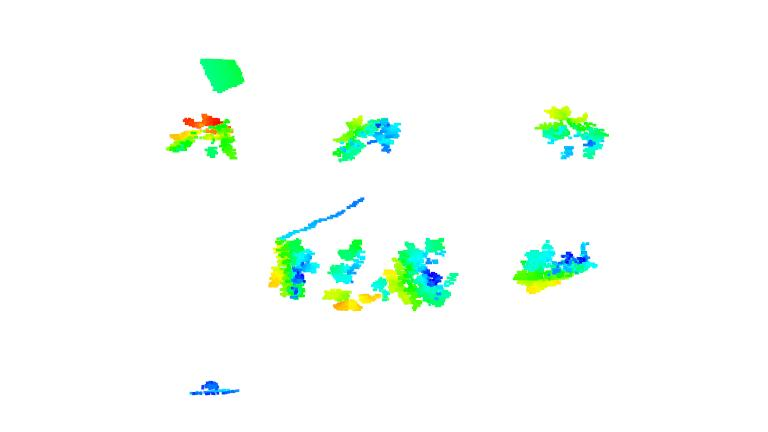chickpea: (385, 229, 467, 308), (529, 107, 610, 165), (512, 235, 593, 292), (164, 107, 242, 162), (323, 235, 380, 310), (265, 233, 319, 300), (334, 114, 400, 164)
